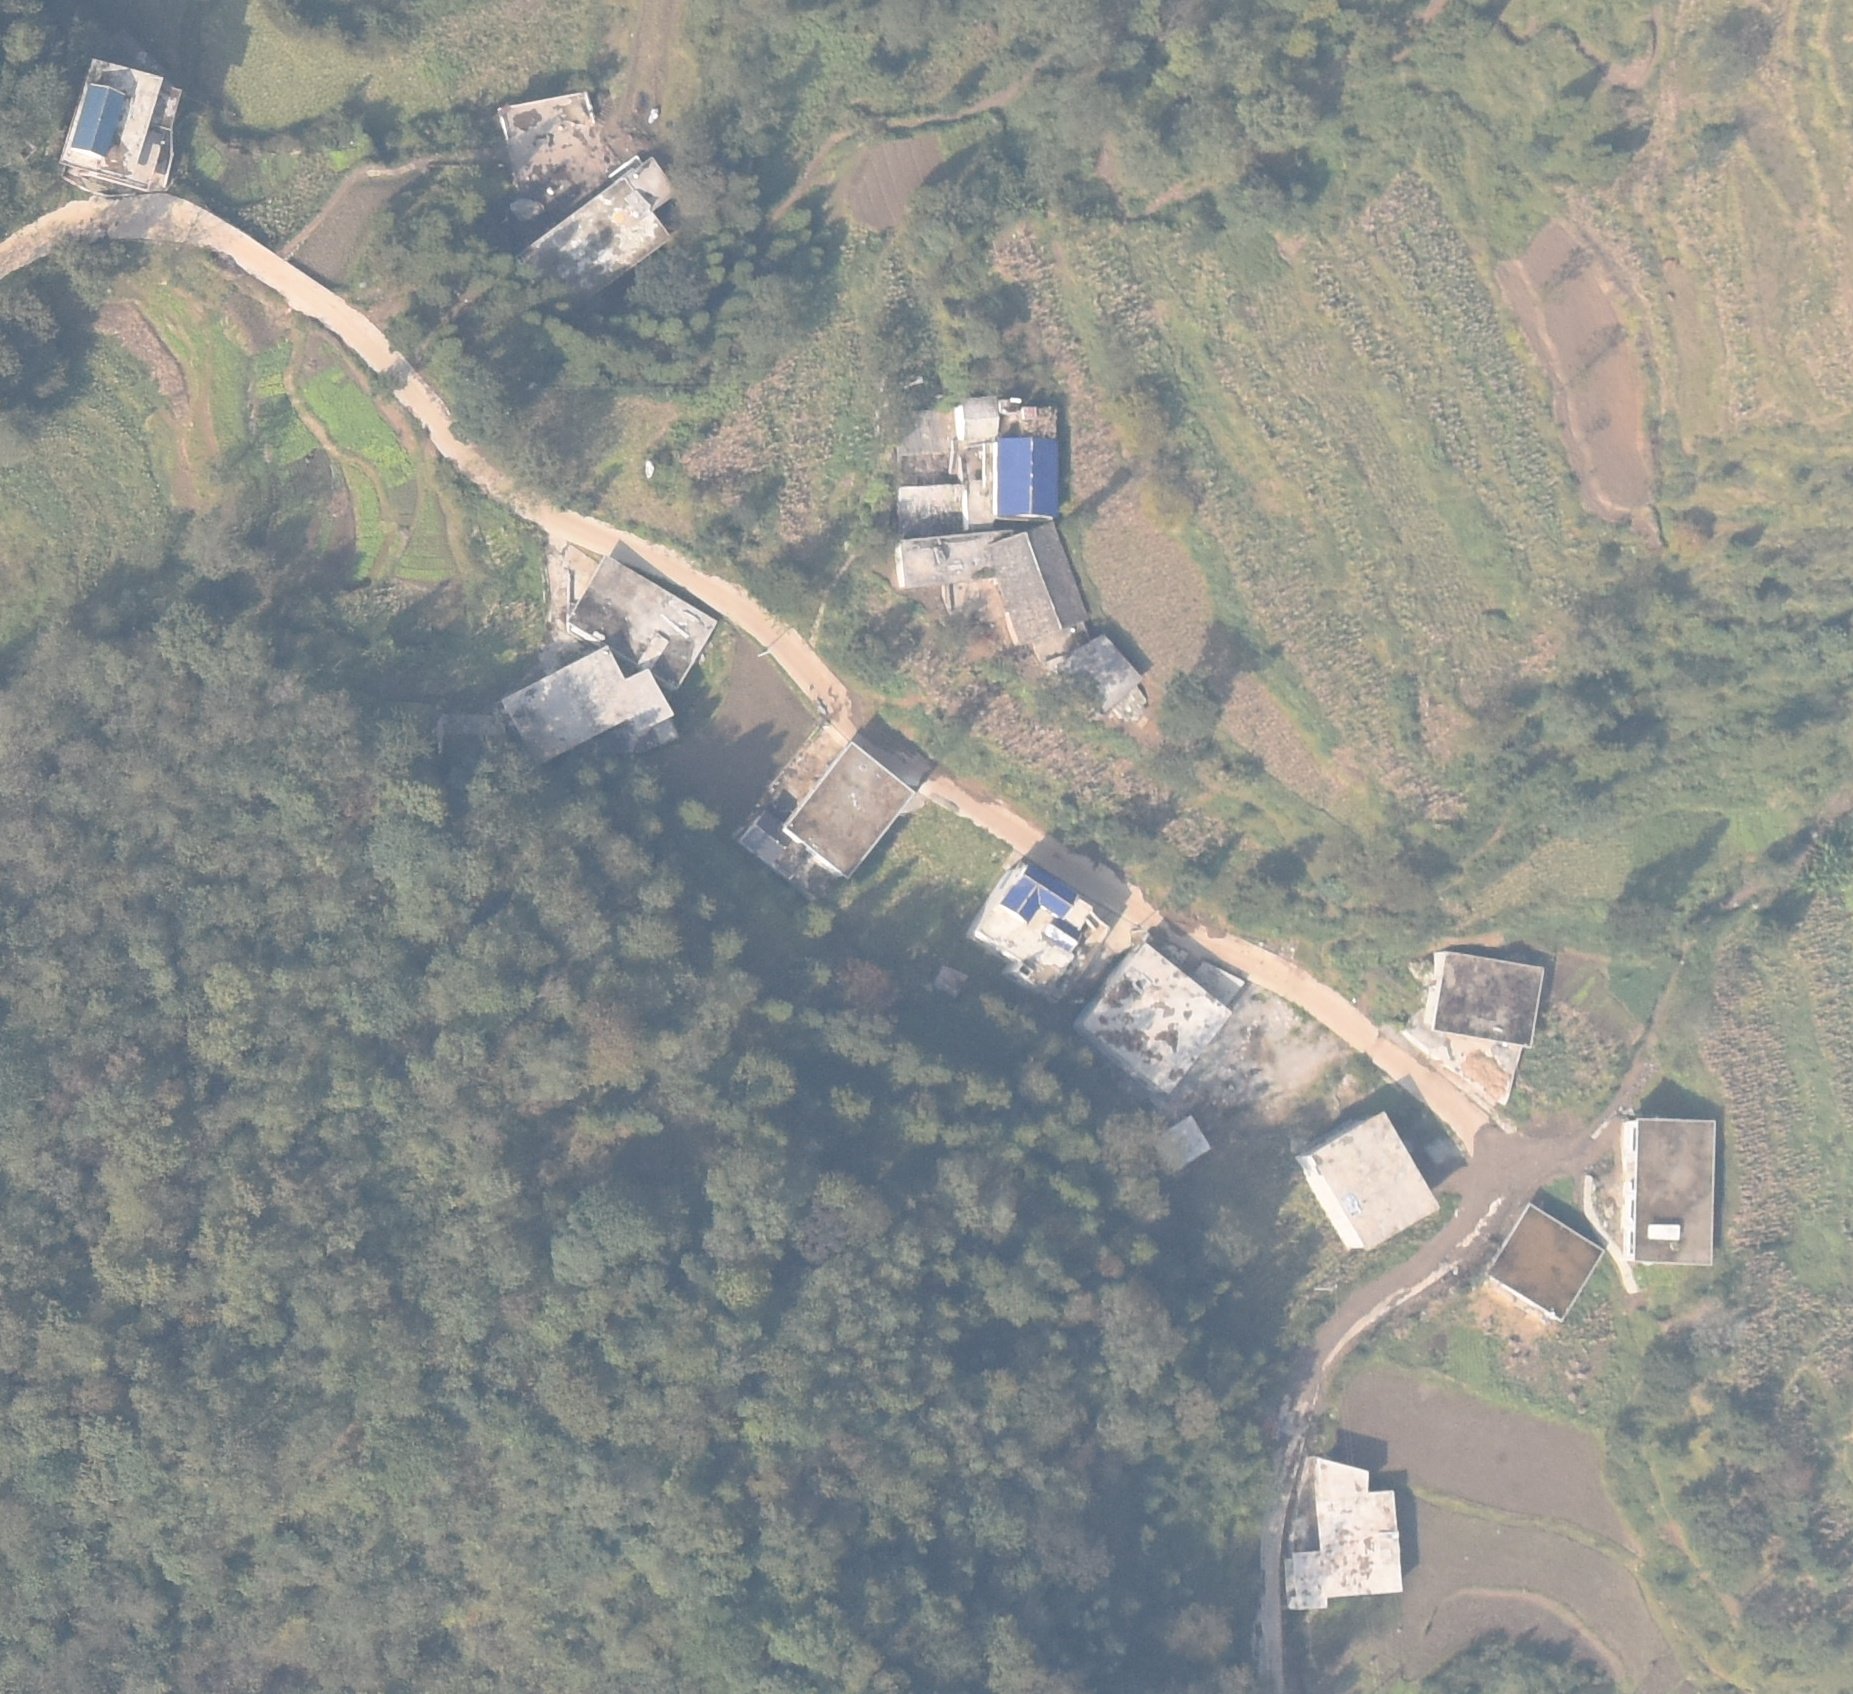building: (497, 152, 682, 305), (1074, 935, 1241, 1097), (1263, 1451, 1410, 1626), (1297, 1102, 1442, 1279), (476, 650, 716, 752), (766, 752, 942, 889), (39, 52, 204, 192), (1613, 1118, 1750, 1286), (558, 552, 723, 687), (1487, 1181, 1610, 1344), (1421, 944, 1571, 1050), (987, 860, 1113, 979), (998, 526, 1103, 650), (979, 439, 1073, 524), (1153, 1115, 1212, 1180), (943, 392, 1006, 437)
